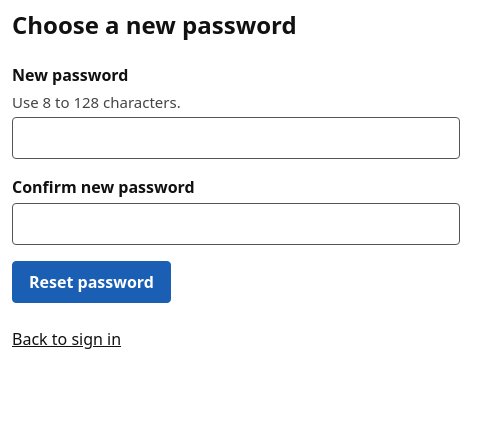
it: reset password: fields, the captured link, and the completed reset › a failed reset (server error) keeps the link and the fields protected
In the password field labelled "New password": (236, 138) top-left (12, 117), bottom-right (460, 159), type "synthetic password value"
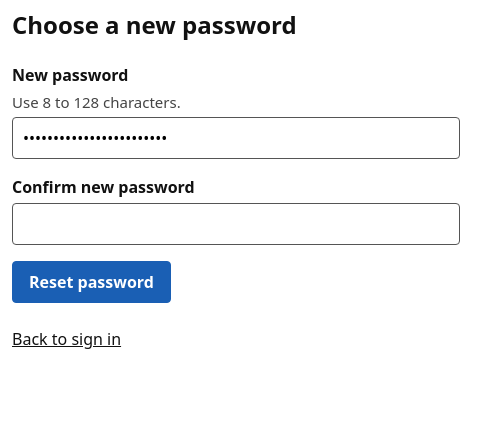
In the password field labelled "Confirm new password": (236, 224) top-left (12, 203), bottom-right (460, 245), type "synthetic password value"
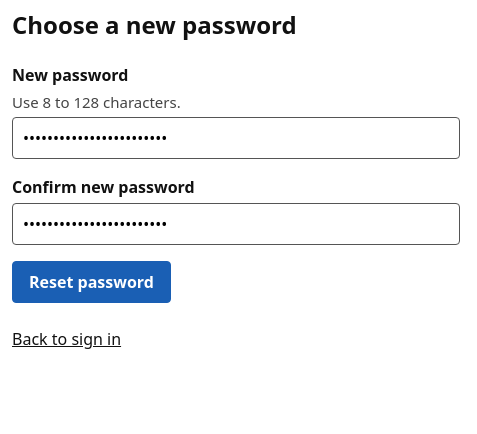
Click the button "Reset password": (91, 282) top-left (12, 261), bottom-right (171, 303)
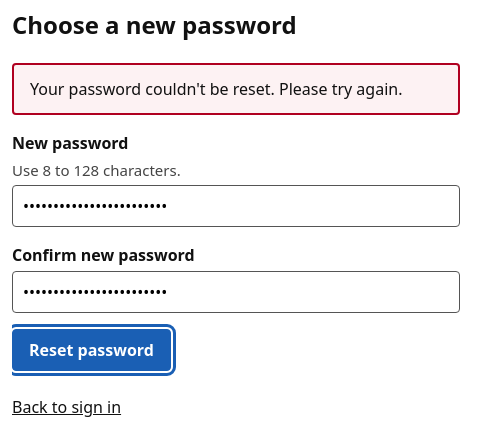
Check: the message "Your password couldn't be reset. Please try again." is shown, box top-left (12, 63), bottom-right (460, 115)
